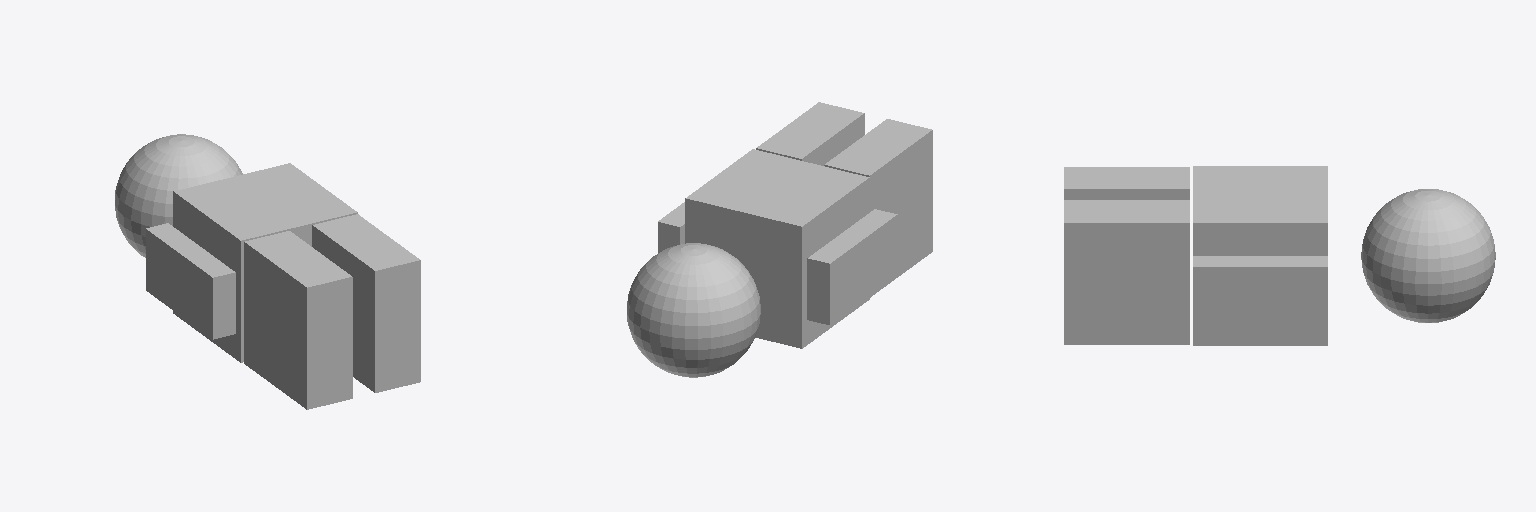
File: sporty_robot_animation_000008.obj
3 views of the same model, side by side, from view 1: azimuth 30°, elevation 25°; view 2: azimuth 150°, elevation 25°; view 3: azimuth 270°, elevation 25° (orthographic).
Parts seen in each view (by area): view 1: Cube.002, Cube.001_Cube.005, Cube, Sphere.001, Cube.004; view 2: Cube, Sphere.001, Cube.002, Cube.004, Cube.001_Cube.005, Cube.003; view 3: Cube.001_Cube.005, Cube, Sphere.001, Cube.003, Cube.002.
Boxes of the visible parts, x1,y1,x2,y2 form: Cube.002: [244, 231, 352, 409]; Cube.001_Cube.005: [312, 214, 420, 392]; Cube: [173, 163, 357, 362]; Sphere.001: [115, 134, 242, 257]; Cube.004: [146, 223, 235, 339]; Cube: [685, 149, 869, 348]; Sphere.001: [627, 243, 760, 377]; Cube.002: [824, 119, 932, 297]; Cube.004: [807, 209, 897, 324]; Cube.001_Cube.005: [756, 102, 864, 165]; Cube.003: [658, 202, 684, 252]; Cube.001_Cube.005: [1064, 200, 1189, 344]; Cube: [1193, 166, 1327, 345]; Sphere.001: [1361, 189, 1495, 322]; Cube.003: [1193, 256, 1327, 328]; Cube.002: [1064, 167, 1189, 199].
Bounding box in the file's own units: 0.76 × 0.514 × 1.65.